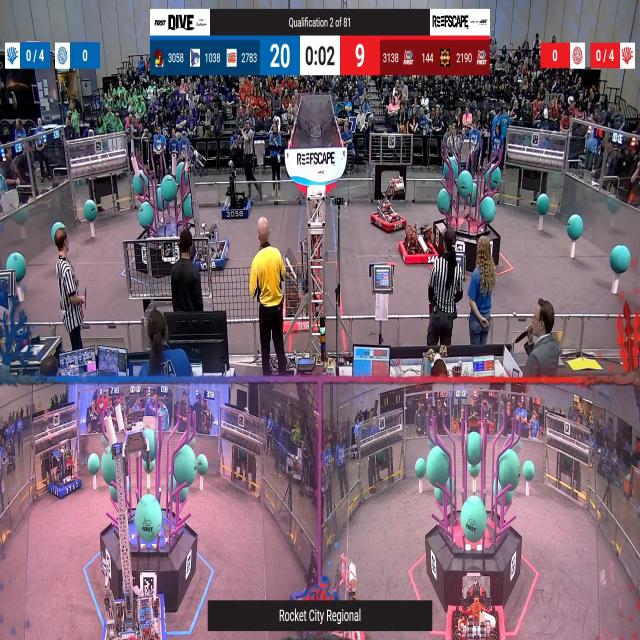scoreboard: (150, 36, 488, 76)
